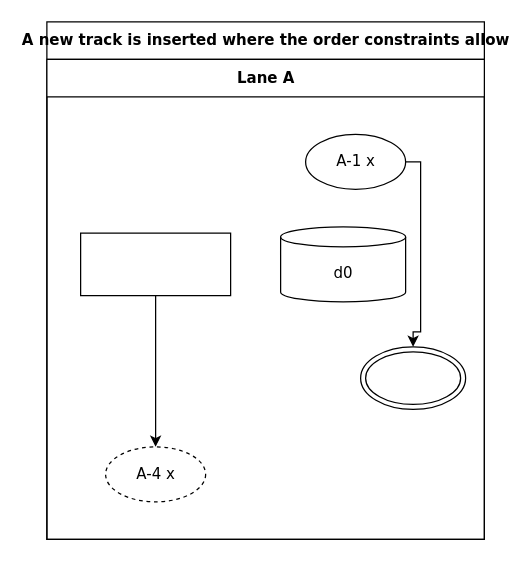
This 530x561 diagram has some shape labels left out. Each missing label, with the box of its shape:
A-2 x: (79, 232, 231, 296)
A-3 x: (359, 346, 466, 409)
